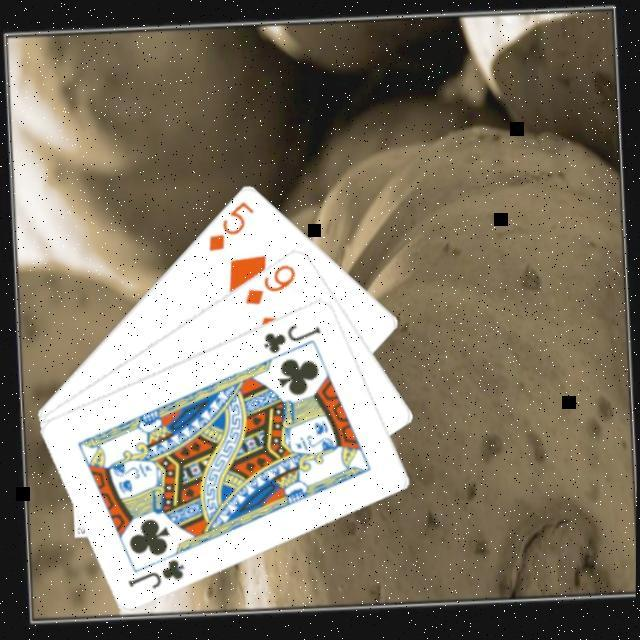5D: (200, 198, 258, 256)
9D: (239, 261, 299, 310)
JC: (122, 556, 188, 595), (258, 321, 324, 358)
